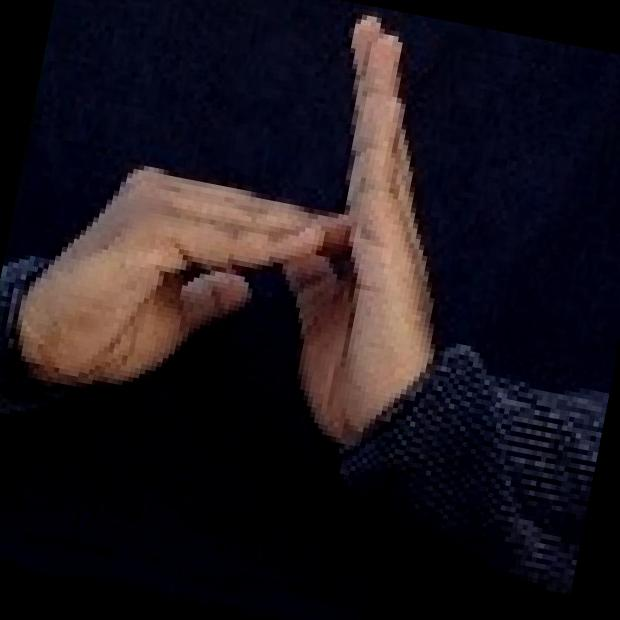Y: (3, 0, 492, 486)
